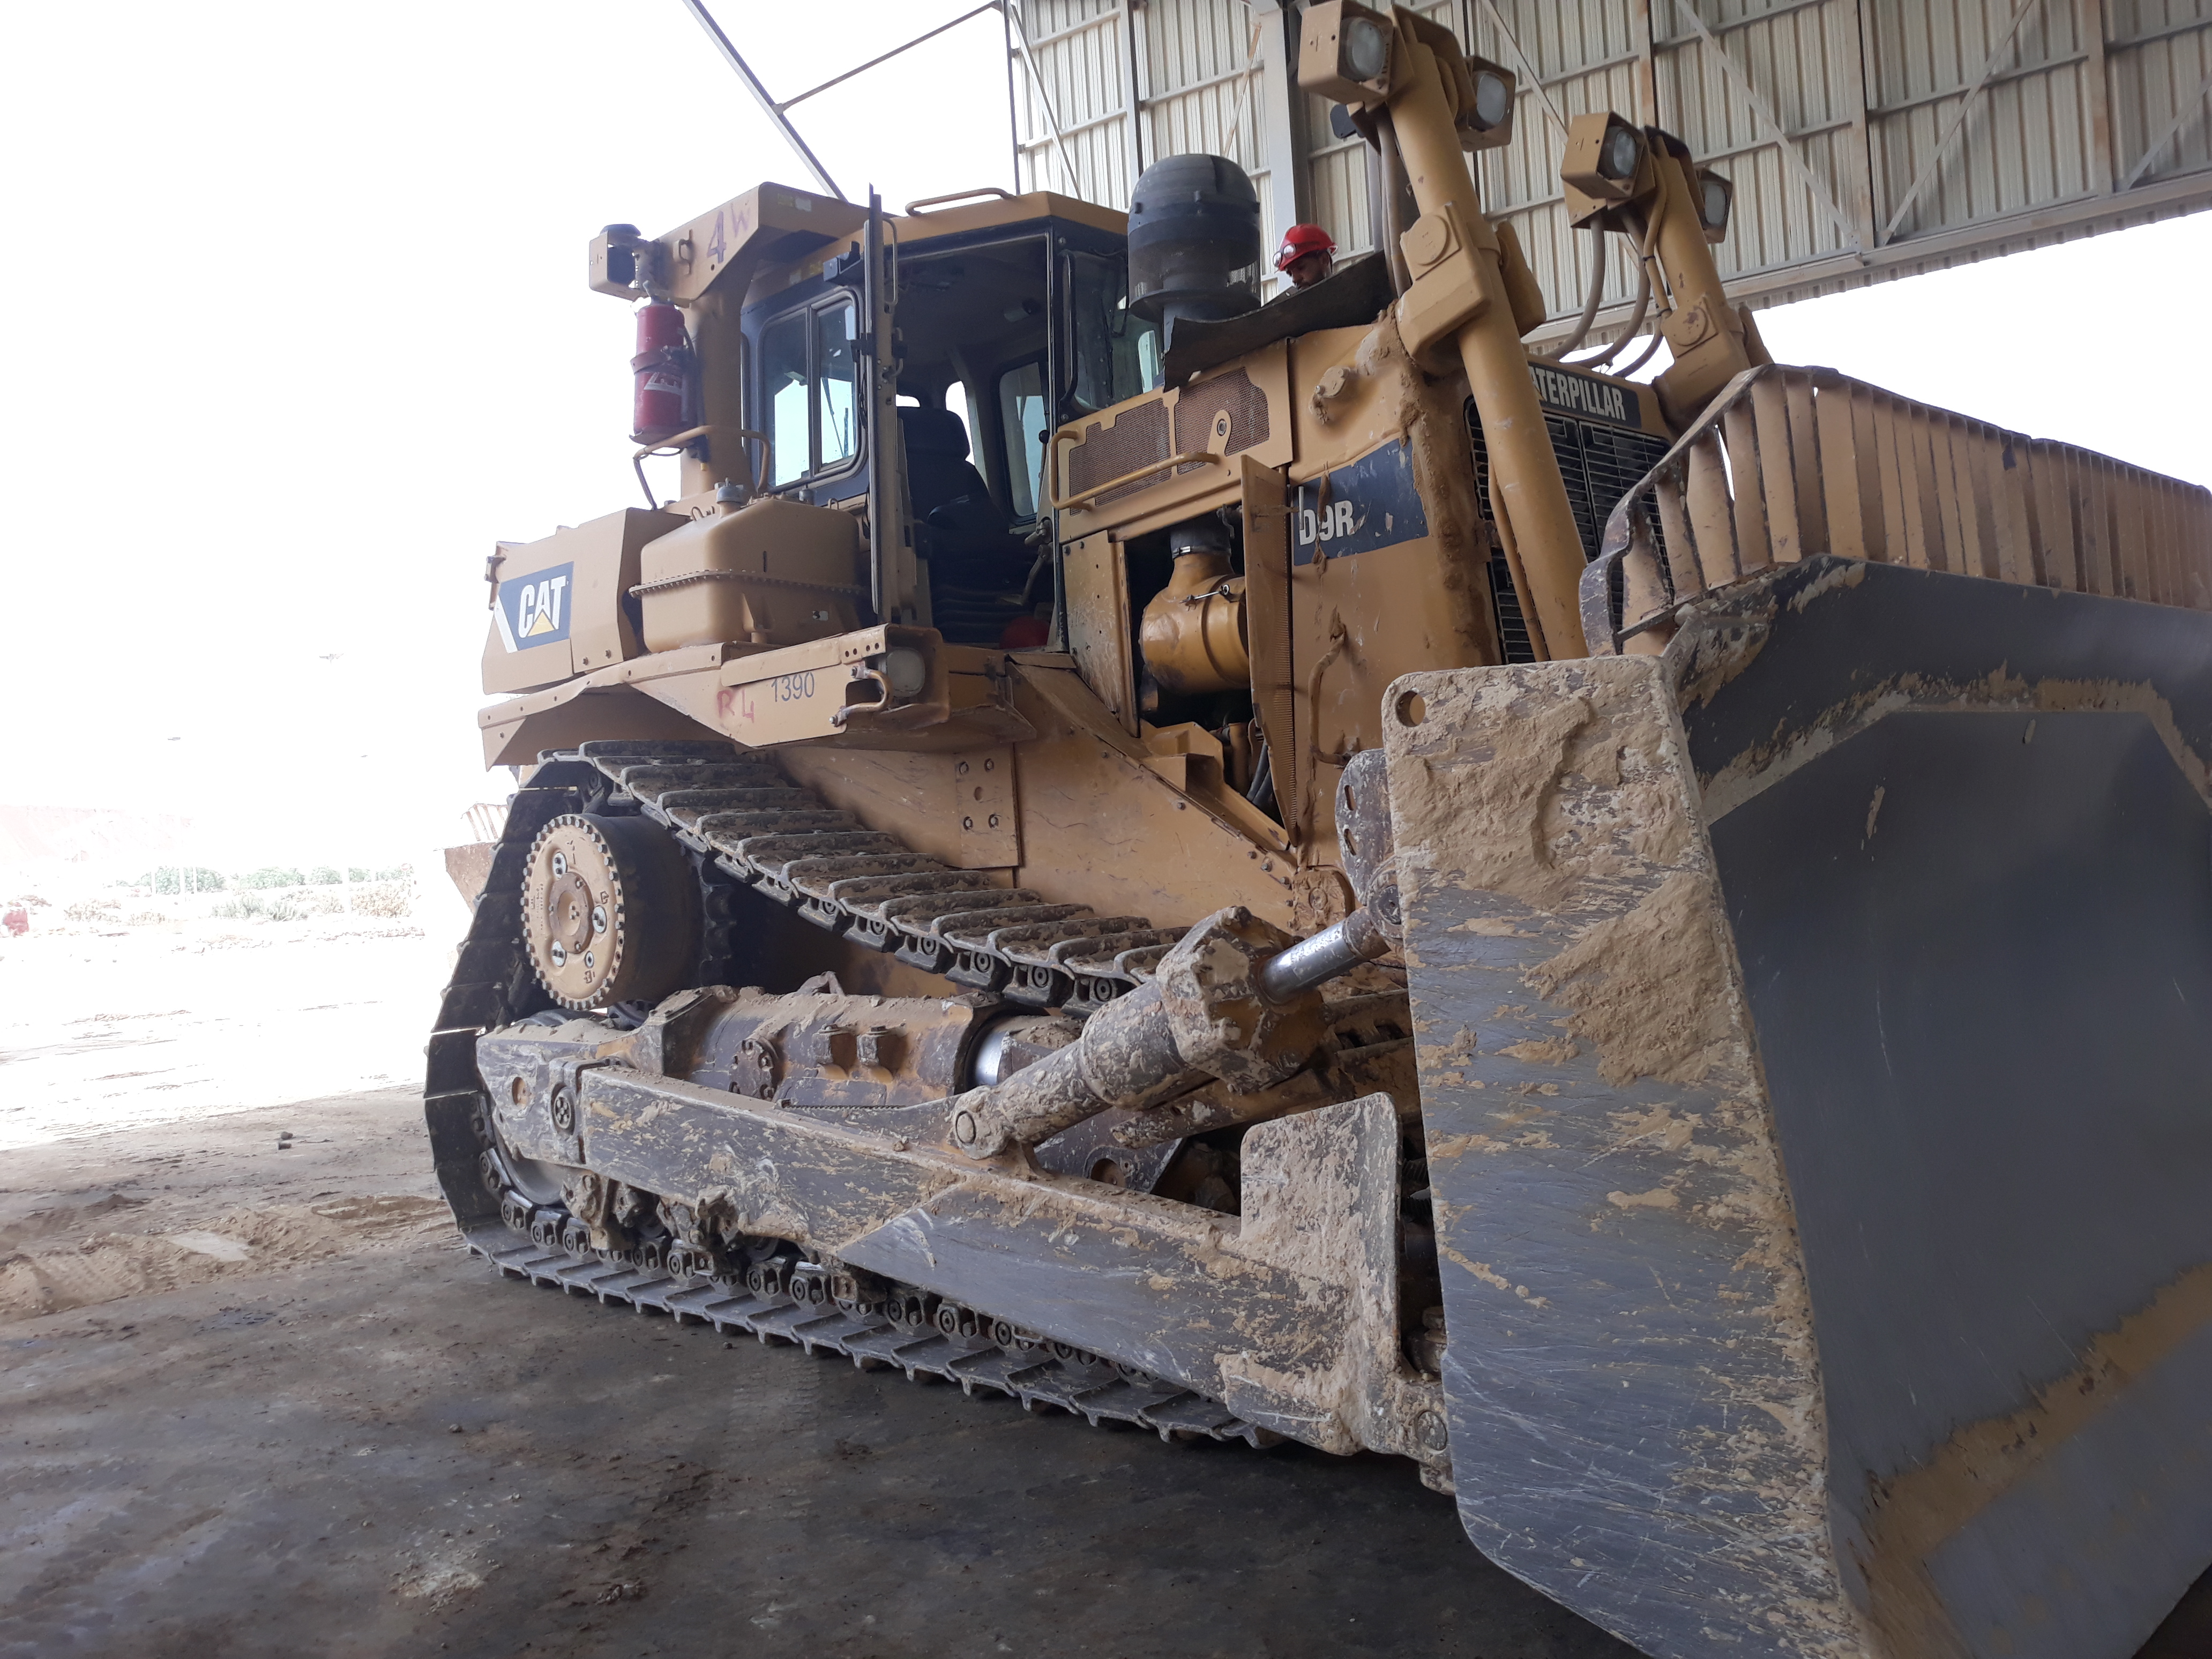bulldozer: (401, 2, 2212, 1659)
